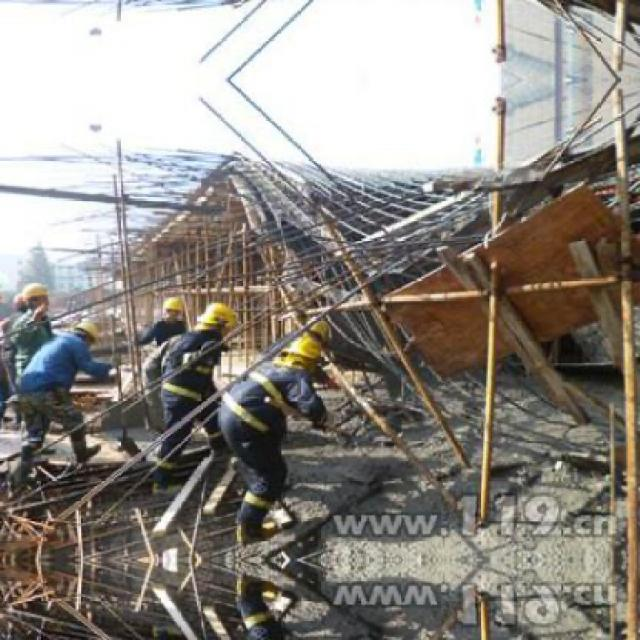helmet: (274, 336, 332, 370), (194, 301, 234, 337), (23, 283, 52, 320), (69, 322, 102, 349), (158, 298, 184, 324)
